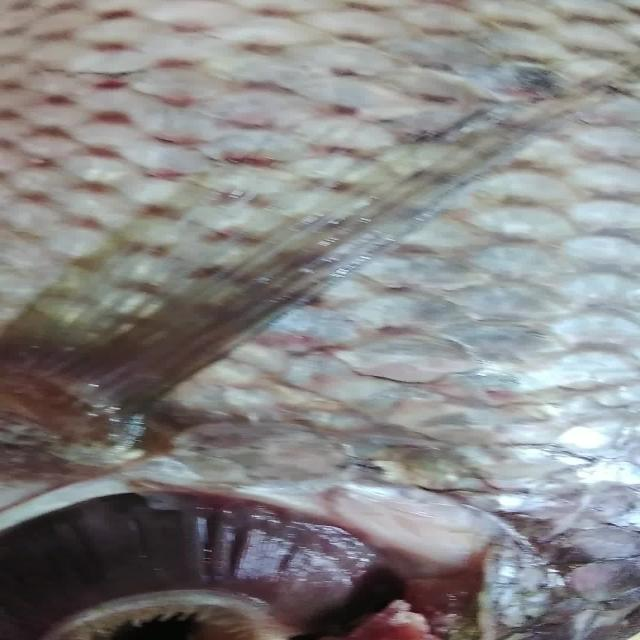Non-Fresh: (24, 479, 358, 640)
